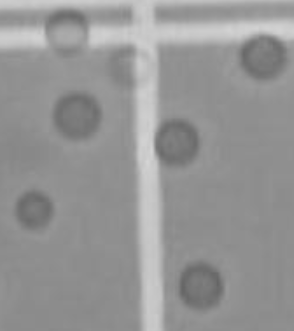cell: (148, 111, 203, 171), (50, 87, 105, 144), (38, 5, 92, 63), (173, 257, 228, 312), (235, 29, 288, 84), (10, 184, 60, 234)
